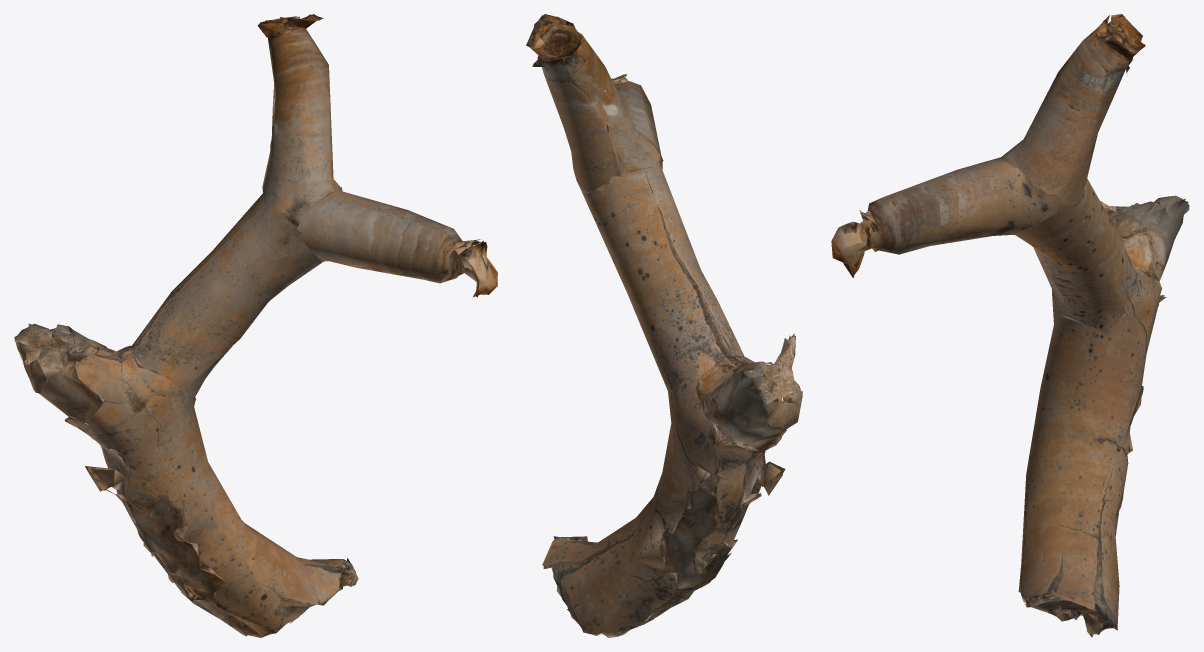
File: dead_branch.glb
3 views of the same model, side by side, from view 1: azimuth 30°, elevation 25°; view 2: azimuth 150°, elevation 25°; view 3: azimuth 270°, elevation 25° (orthographic). The views are drawn at different scales.
Visible parts, largest first — view 1: dead_quiver_branch_01; view 2: dead_quiver_branch_01; view 3: dead_quiver_branch_01.
Part boxes in pixels (bbox=[...]): dead_quiver_branch_01: bbox=[14, 14, 497, 637]; dead_quiver_branch_01: bbox=[526, 14, 802, 637]; dead_quiver_branch_01: bbox=[831, 14, 1189, 637].
Bounding box in the file's own units: 0.9017 × 1.55 × 0.7987.
1 material, 1 textured.
